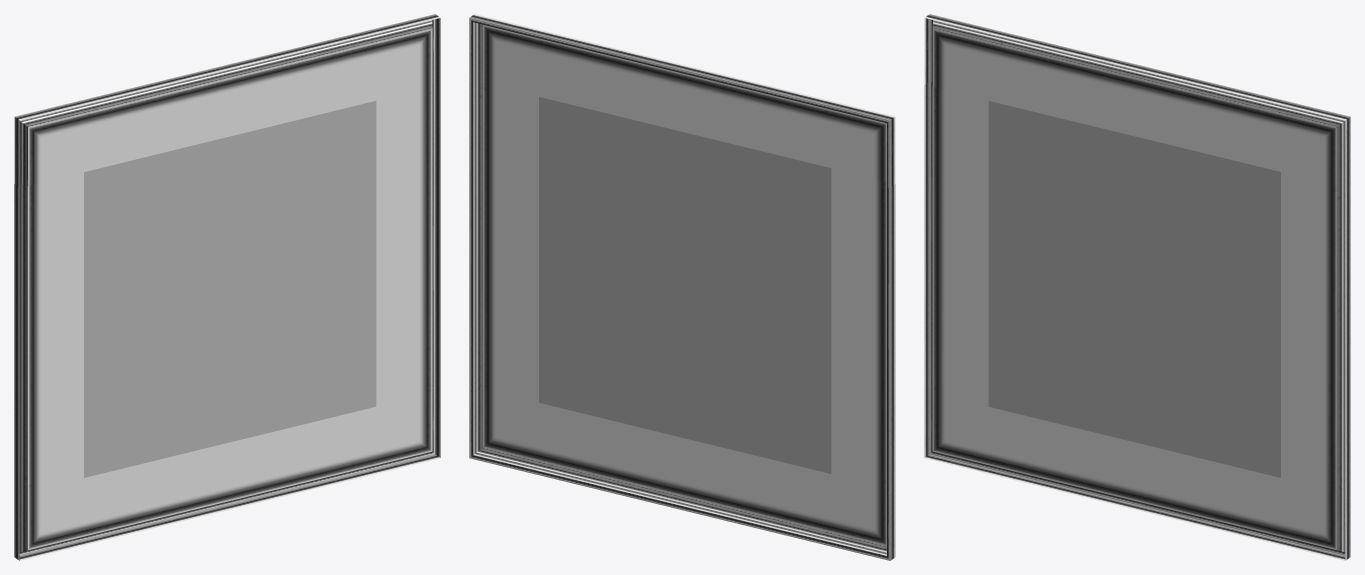
File: Canvas_fix_008.fbx
The picture shows the model from 3 angles, left to right: view 1: azimuth 30°, elevation 25°; view 2: azimuth 150°, elevation 25°; view 3: azimuth 330°, elevation 25°; orthographic projection.
Parts seen in each view (by area): view 1: BlueChip_Interior.073; view 2: BlueChip_Interior.073; view 3: BlueChip_Interior.073.
Boxes of the visible parts, x1=… form: BlueChip_Interior.073: x1=14, y1=14, x2=440, y2=560; BlueChip_Interior.073: x1=469, y1=14, x2=895, y2=560; BlueChip_Interior.073: x1=924, y1=14, x2=1350, y2=560.
Bounding box in the file's own units: 173 × 173 × 3.8.
